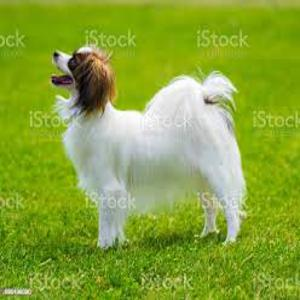yell: (50, 45, 245, 247)
